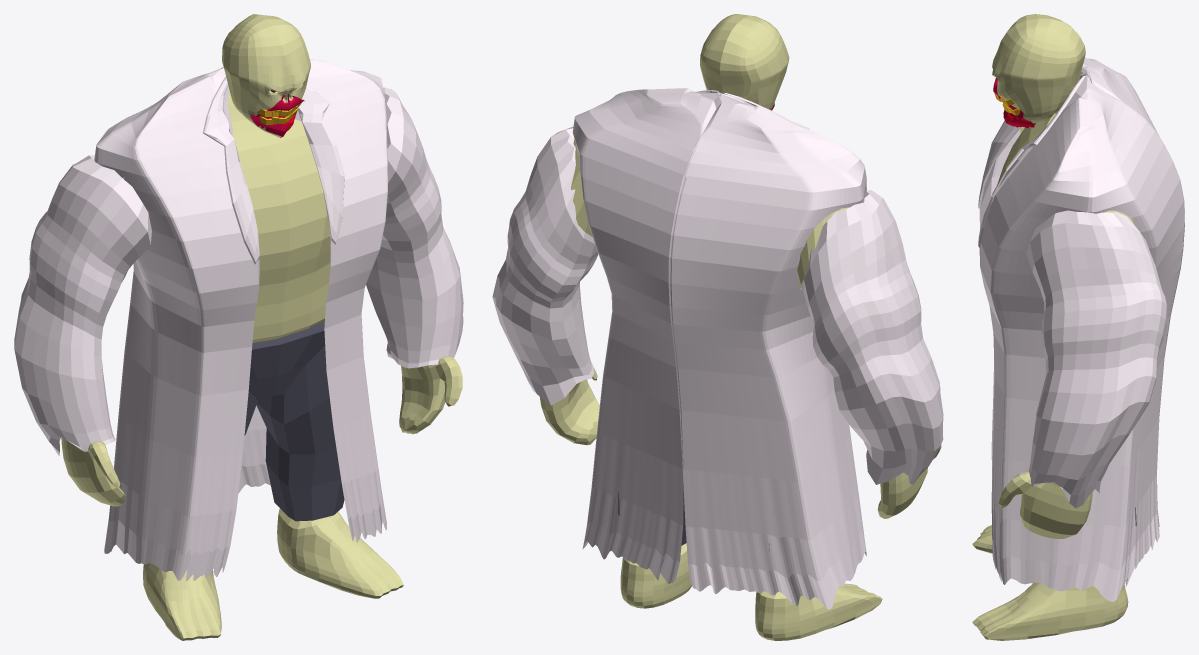
The model's file is boss baru.fbx.
3 views of the same model, side by side, from view 1: azimuth 30°, elevation 25°; view 2: azimuth 150°, elevation 25°; view 3: azimuth 270°, elevation 25° (orthographic).
Visible parts, largest first — view 1: Badan.002, Badan, torso, Kepala, Kepala.001; view 2: Badan.002, Badan, Kepala; view 3: Badan.002, Badan, Kepala.
Boxes of the visible parts, box(x1,y1,x2,y2) form: Badan.002: box(14, 59, 463, 581); Badan: box(61, 90, 462, 640); torso: box(244, 321, 344, 521); Kepala: box(222, 14, 310, 136); Kepala.001: box(250, 94, 304, 137); Badan.002: box(492, 88, 943, 609); Badan: box(539, 139, 941, 640); Kepala: box(700, 14, 789, 109); Badan.002: box(978, 57, 1184, 602); Badan: box(972, 112, 1136, 640); Kepala: box(992, 14, 1085, 123).
Bounding box in the file's own units: 803 × 1027 × 347.
